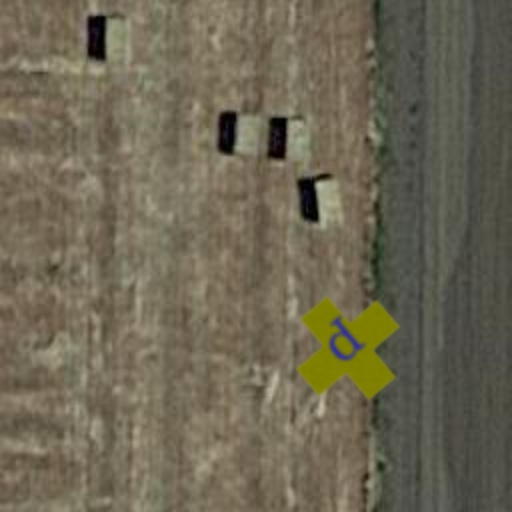cross: (272, 272, 424, 424)
